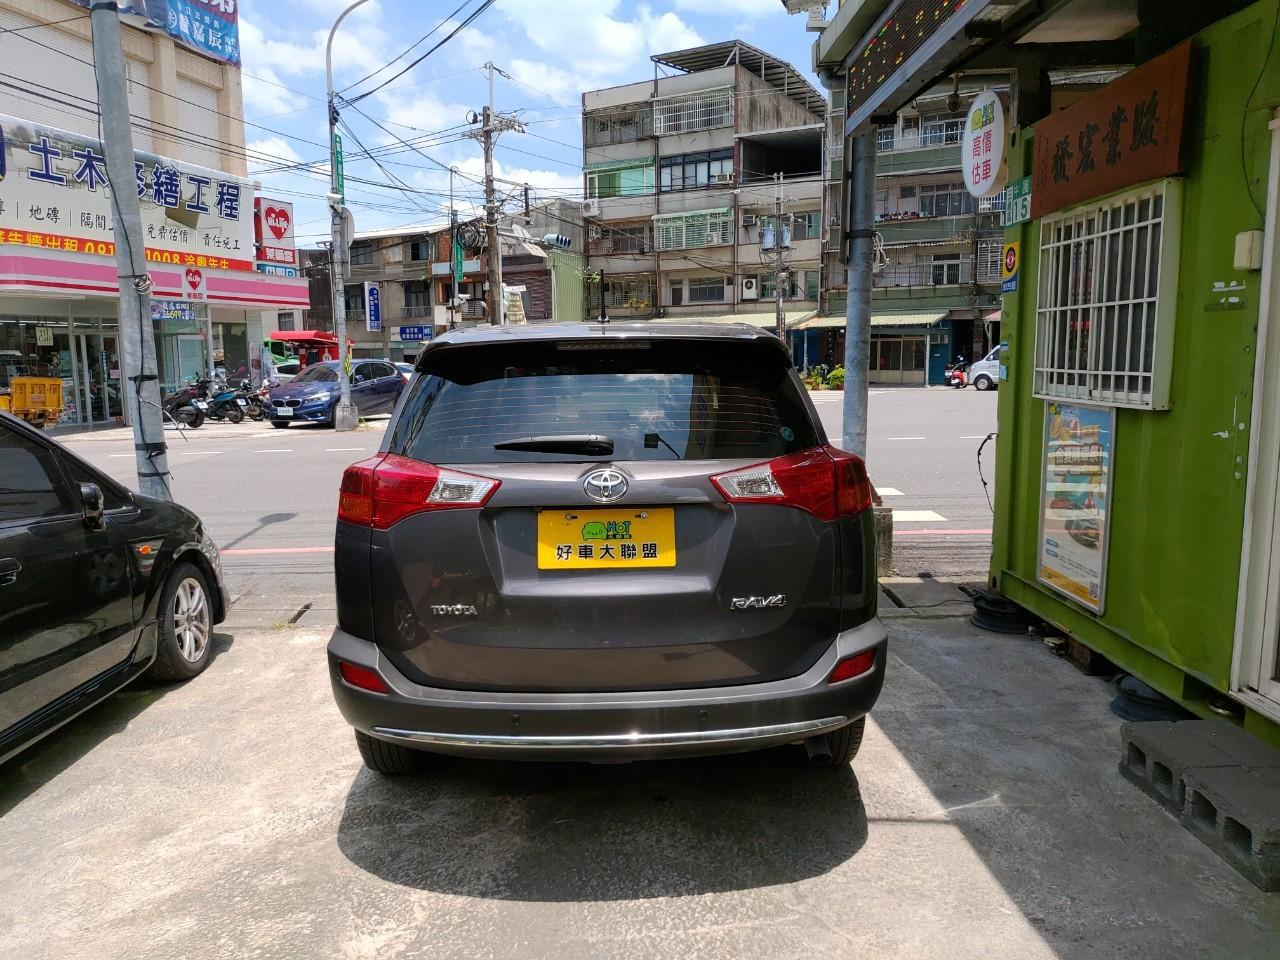toyota_rav4: (335, 328, 882, 756)
